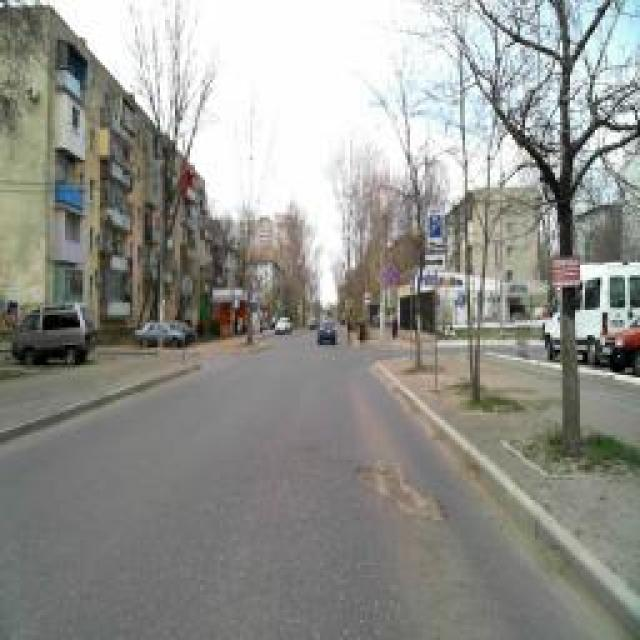sign: (385, 263, 397, 285), (364, 291, 371, 304)
